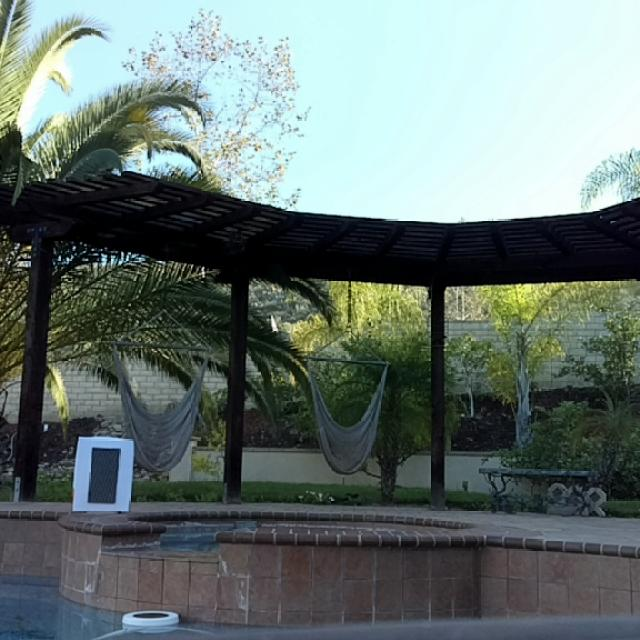led: (88, 445, 120, 504)
